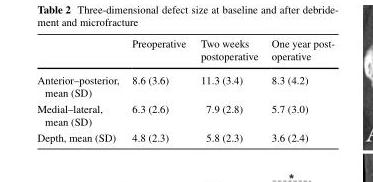table: (36, 36, 334, 143)
table column: (36, 36, 125, 143), (192, 36, 264, 143), (264, 36, 334, 143), (125, 36, 192, 143)
table column header: (36, 36, 334, 67)
table row: (36, 67, 334, 100), (36, 36, 334, 67), (36, 100, 334, 129), (36, 129, 334, 143)
